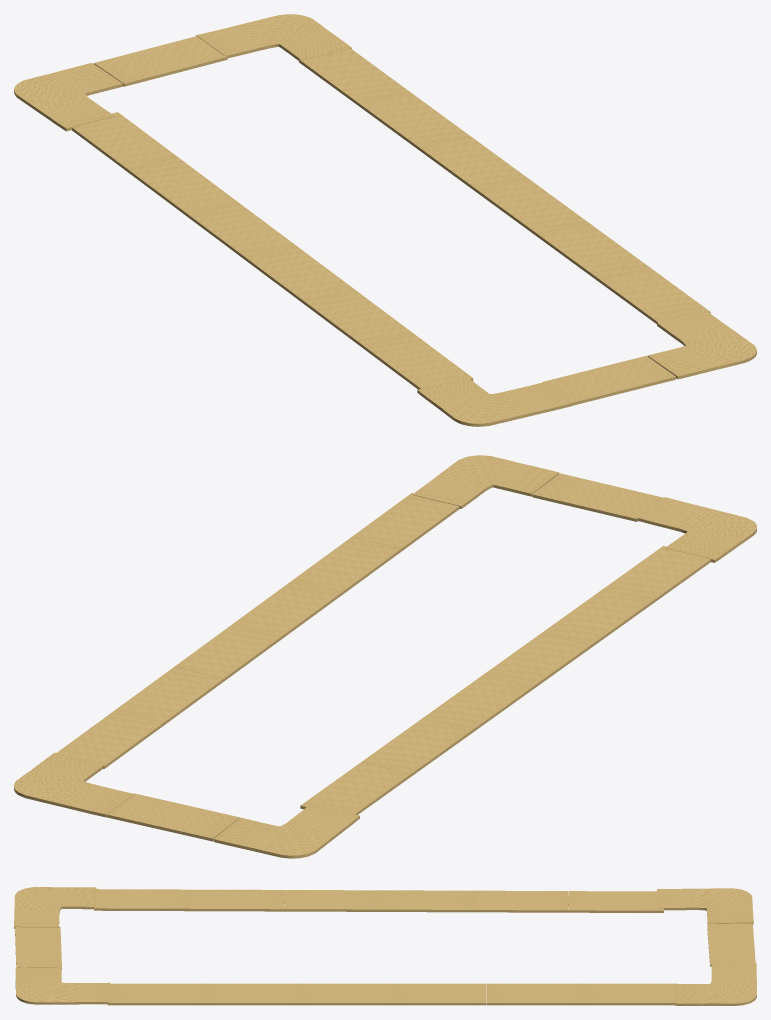
The model's file is stage2.fbx.
3 views of the same model, one above another, from view 1: azimuth 30°, elevation 25°; view 2: azimuth 150°, elevation 25°; view 3: azimuth 270°, elevation 25° (orthographic). The views are drawn at different scales.
Parts seen in each view (by area): view 1: road.004; view 2: road.004; view 3: road.004.
Boxes of the visible parts, left/top/right/bottom form: road.004: left=14, top=14, right=756, bottom=426; road.004: left=14, top=455, right=756, bottom=858; road.004: left=14, top=887, right=756, bottom=1005.
Bounding box in the file's own units: 2514 × 27.04 × 6775.
18 materials, 18 textured.
